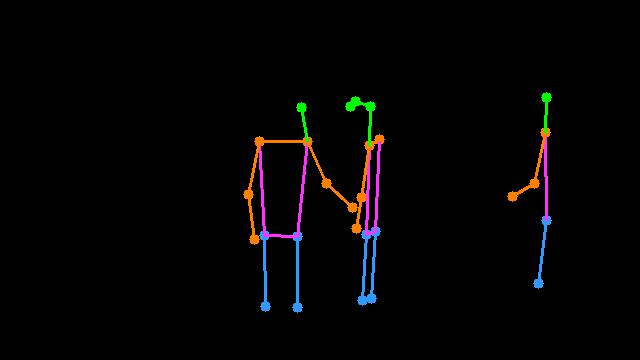normal: (233, 72, 403, 318)
